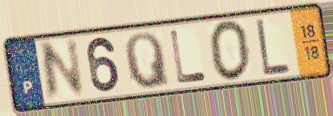6: (85, 36, 122, 95)
L: (167, 28, 209, 86), (254, 17, 293, 77)
N: (38, 36, 87, 105)
O: (207, 19, 253, 83)
Q: (122, 30, 173, 91)
